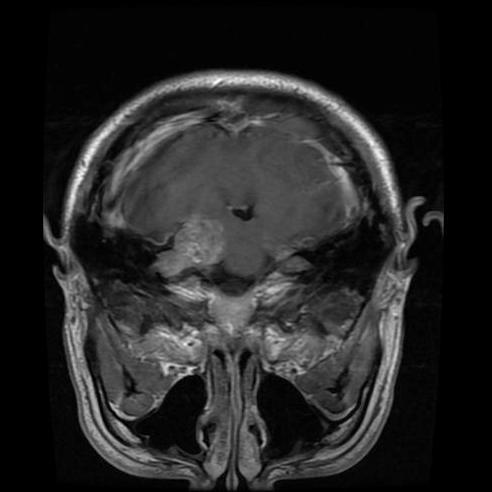Tumour-Pituitary: (140, 205, 245, 275)
